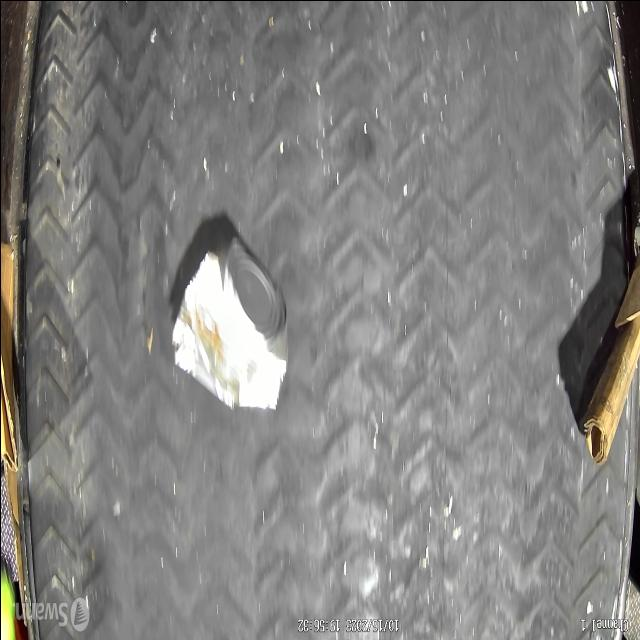can: (168, 225, 292, 413)
